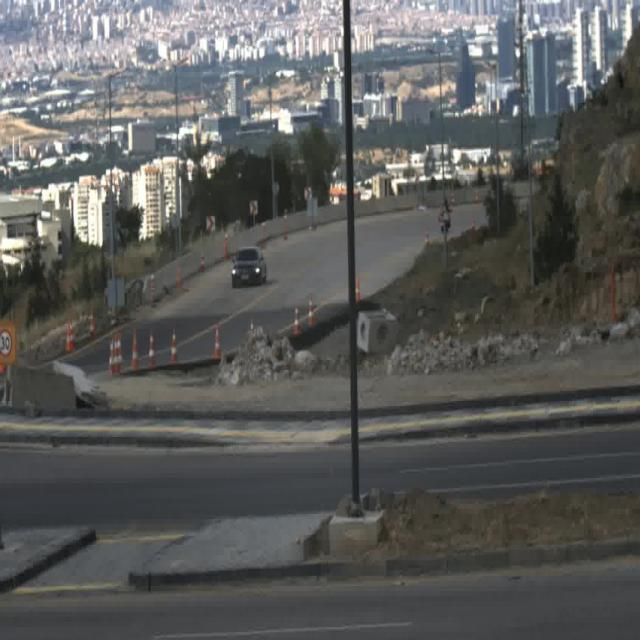Car: (230, 244, 267, 287)
Motorcycle: (439, 198, 453, 232)
